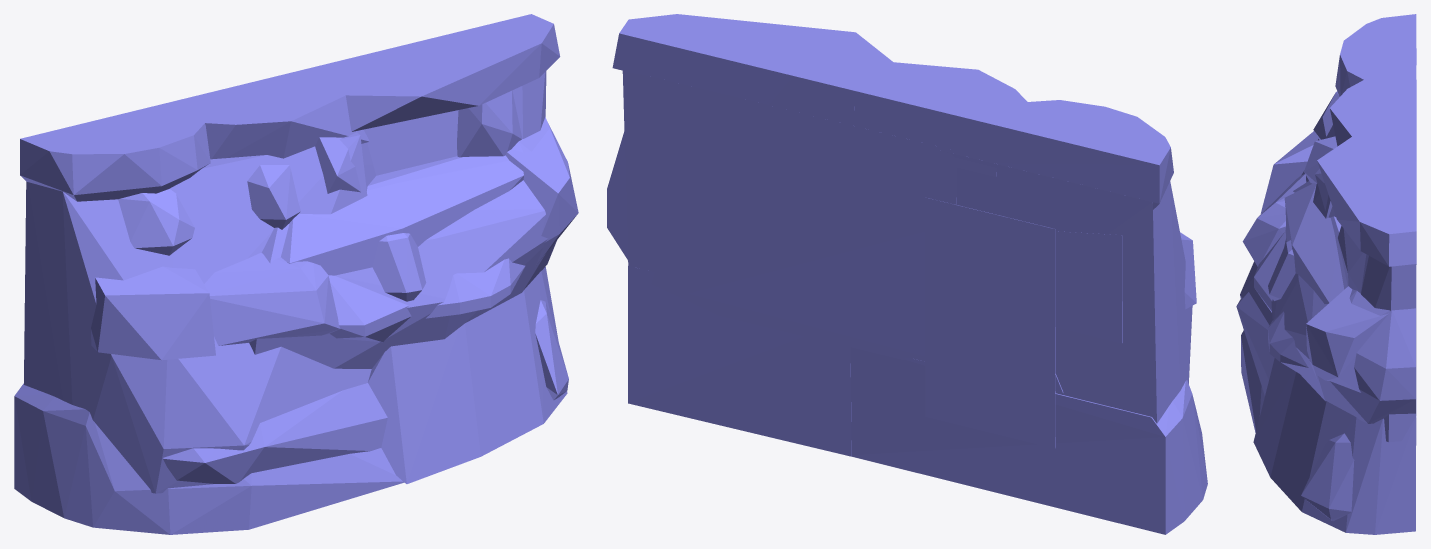
The model's file is Cliff_Wall_02_Slope_Collider_01.FBX.
3 views of the same model, side by side, from view 1: azimuth 30°, elevation 25°; view 2: azimuth 150°, elevation 25°; view 3: azimuth 270°, elevation 25° (orthographic). The views are drawn at different scales.
Visible parts, largest first — view 1: COLLIDER8, COLLIDER3, COLLIDER2, COLLIDER10, COLLIDER6, COLLIDER4, COLLIDER16, COLLIDER1, COLLIDER19, COLLIDER7, COLLIDER5, COLLIDER9 (+9 smaller); view 2: COLLIDER9, COLLIDER3, COLLIDER5, COLLIDER8, COLLIDER2, COLLIDER6, COLLIDER10, COLLIDER4, COLLIDER1, COLLIDER7; view 3: COLLIDER2, COLLIDER6, COLLIDER10, COLLIDER4, COLLIDER11, COLLIDER1, COLLIDER16, COLLIDER9, COLLIDER18, COLLIDER5, COLLIDER19, COLLIDER7 (+9 smaller).
Part boxes in pixels (box(x1,y1,x2,y2)): COLLIDER8: box(24, 132, 371, 493); COLLIDER3: box(14, 383, 403, 534); COLLIDER2: box(368, 267, 567, 483); COLLIDER10: box(249, 117, 556, 368); COLLIDER6: box(309, 14, 560, 131); COLLIDER4: box(20, 101, 210, 201); COLLIDER16: box(281, 160, 523, 275); COLLIDER1: box(176, 68, 369, 159); COLLIDER19: box(163, 383, 387, 483); COLLIDER7: box(91, 266, 215, 360); COLLIDER5: box(204, 253, 340, 345); COLLIDER9: box(364, 71, 546, 175); COLLIDER9: box(622, 70, 956, 361); COLLIDER3: box(850, 347, 1207, 534); COLLIDER5: box(925, 197, 1055, 448); COLLIDER8: box(930, 147, 1192, 423); COLLIDER2: box(628, 266, 851, 456); COLLIDER6: box(612, 14, 893, 125); COLLIDER10: box(607, 132, 1063, 393); COLLIDER4: box(995, 100, 1173, 209); COLLIDER1: box(854, 62, 1027, 176); COLLIDER7: box(1055, 231, 1196, 343); COLLIDER2: box(1253, 358, 1416, 534); COLLIDER6: box(1317, 136, 1416, 266); COLLIDER10: box(1271, 181, 1415, 423); COLLIDER4: box(1335, 14, 1416, 96); COLLIDER11: box(1306, 286, 1388, 392); COLLIDER1: box(1330, 80, 1416, 146); COLLIDER16: box(1284, 183, 1344, 305); COLLIDER9: box(1361, 254, 1416, 442); COLLIDER18: box(1301, 433, 1354, 521); COLLIDER5: box(1242, 174, 1306, 266); COLLIDER19: box(1236, 292, 1274, 395); COLLIDER7: box(1260, 131, 1318, 213).
Bounding box in the file's own units: 1057 × 660 × 355.
